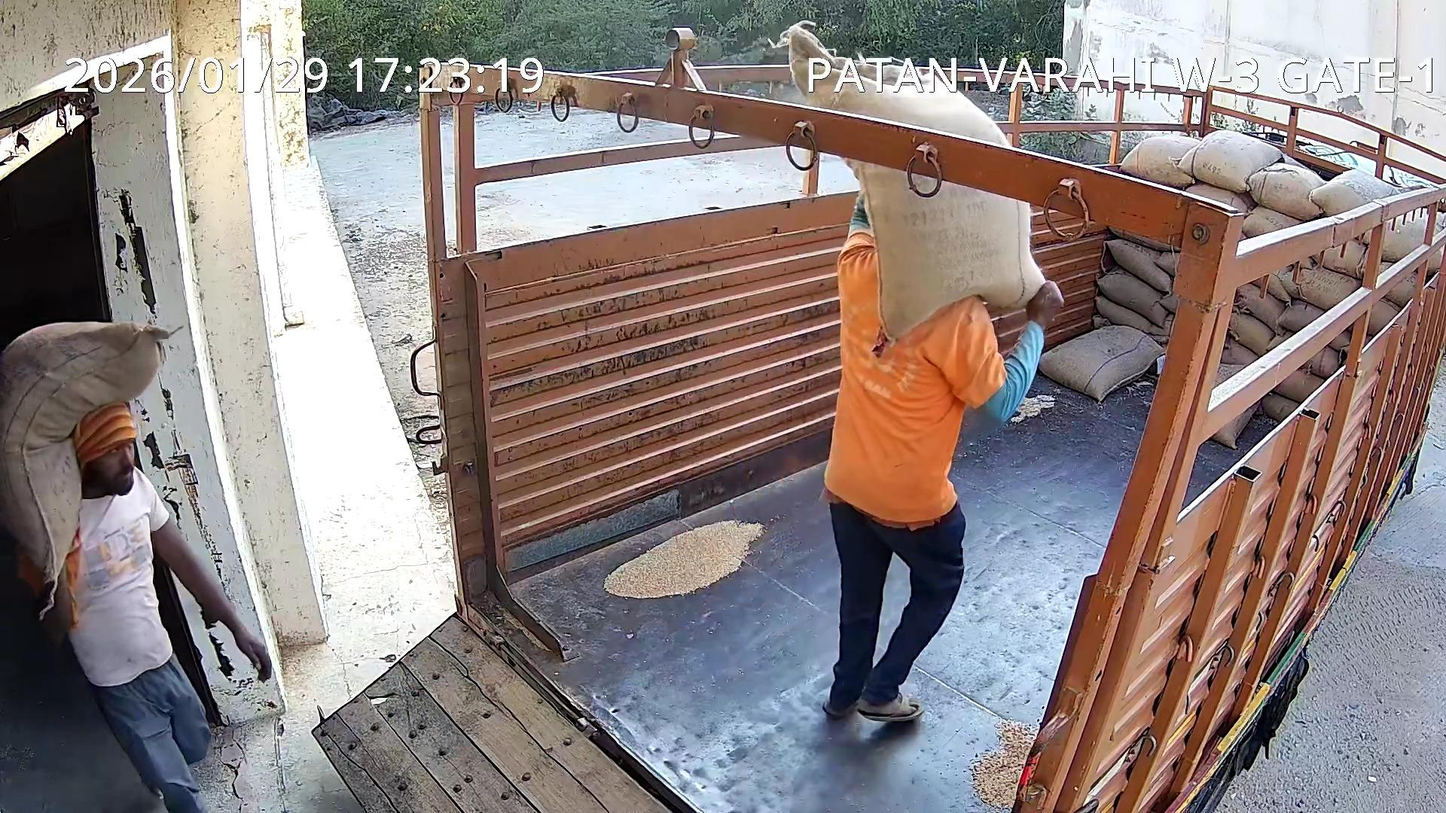Sack: (0, 322, 170, 618), (845, 143, 1043, 337), (786, 21, 1007, 145)
